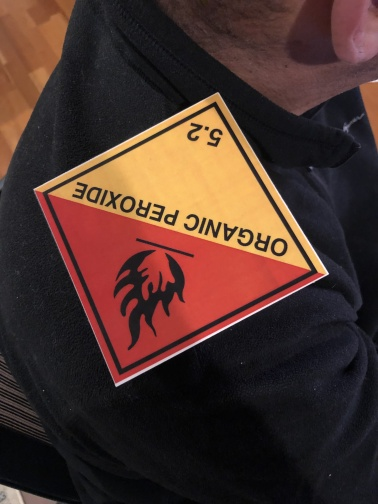OrganicPeroxide: (33, 92, 329, 383)
